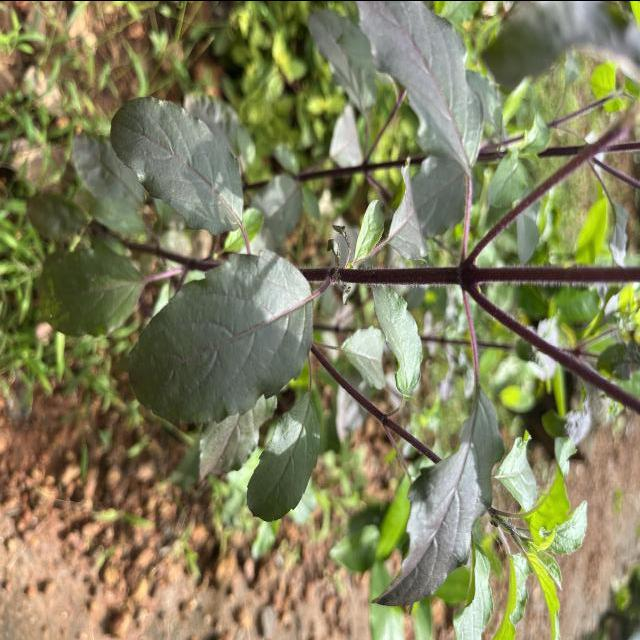Ocimum tenuiflorum: (124, 247, 318, 429), (368, 380, 507, 607), (108, 93, 243, 236)
